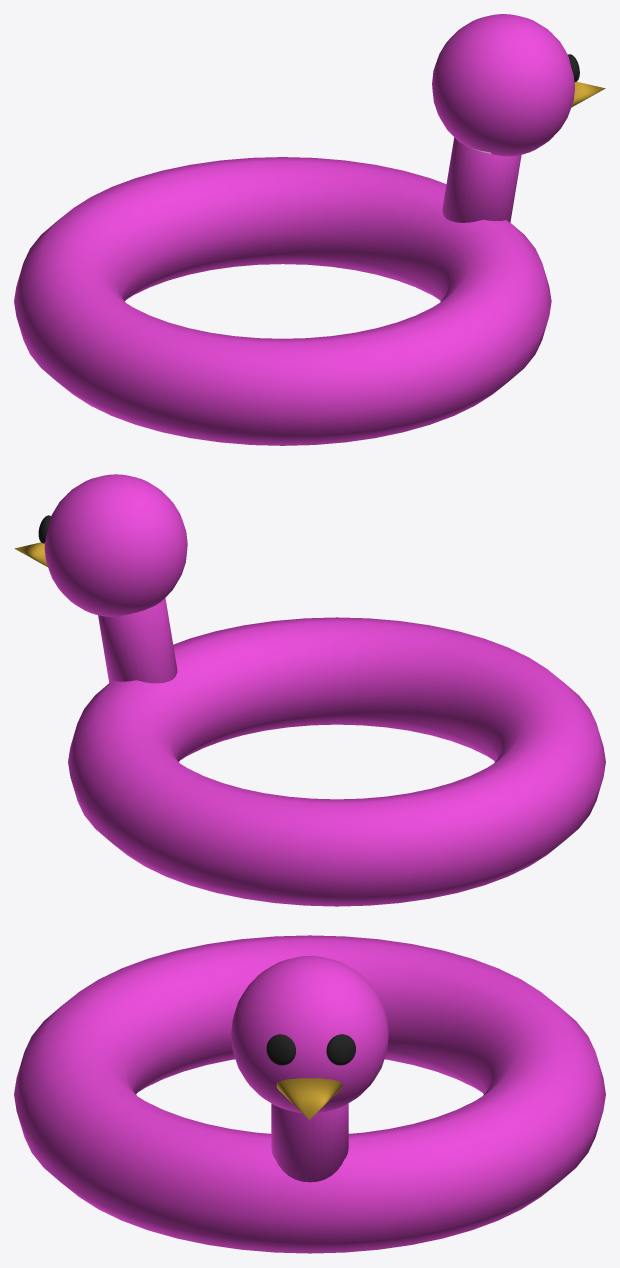
File: Flamingoring.fbx
The picture shows the model from 3 angles, top to bottom: view 1: azimuth 30°, elevation 25°; view 2: azimuth 150°, elevation 25°; view 3: azimuth 270°, elevation 25°; orthographic projection. The views are drawn at different scales.
Visible parts, largest first — view 1: Flamingoring; view 2: Flamingoring; view 3: Flamingoring.
Part boxes in pixels (x1=…): Flamingoring: x1=14, y1=14, x2=605, y2=445; Flamingoring: x1=14, y1=474, x2=605, y2=906; Flamingoring: x1=14, y1=935, x2=605, y2=1253.
Bounding box in the file's own units: 448 × 212 × 375.
